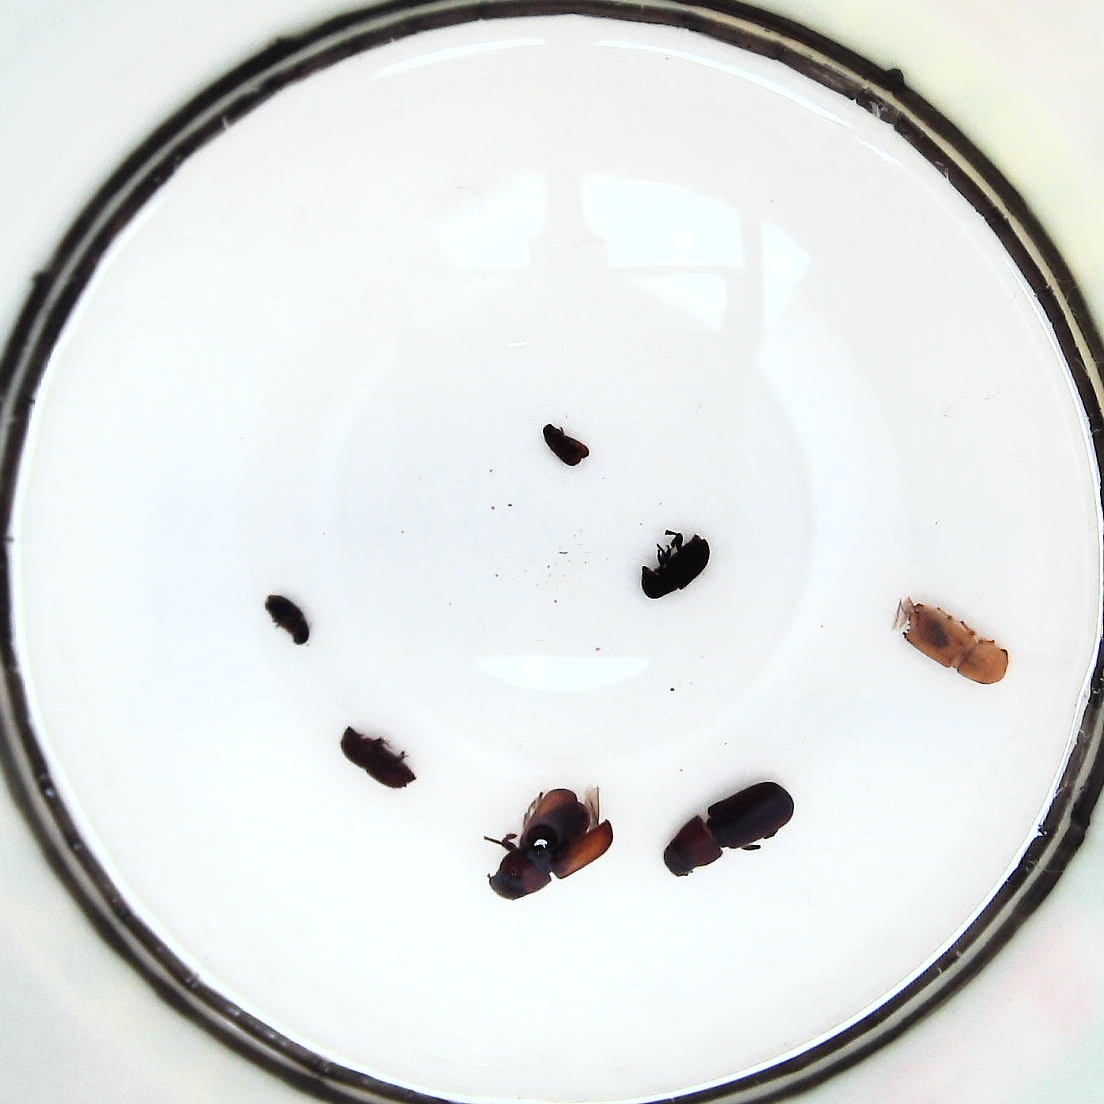Boerner: (902, 601, 1008, 685)
Leconte: (485, 790, 613, 900), (663, 783, 796, 875)
acuminatus: (264, 595, 310, 644)
armandi: (642, 531, 710, 599)
coleoptera: (542, 422, 590, 467)
linnaeus: (340, 727, 417, 790)
